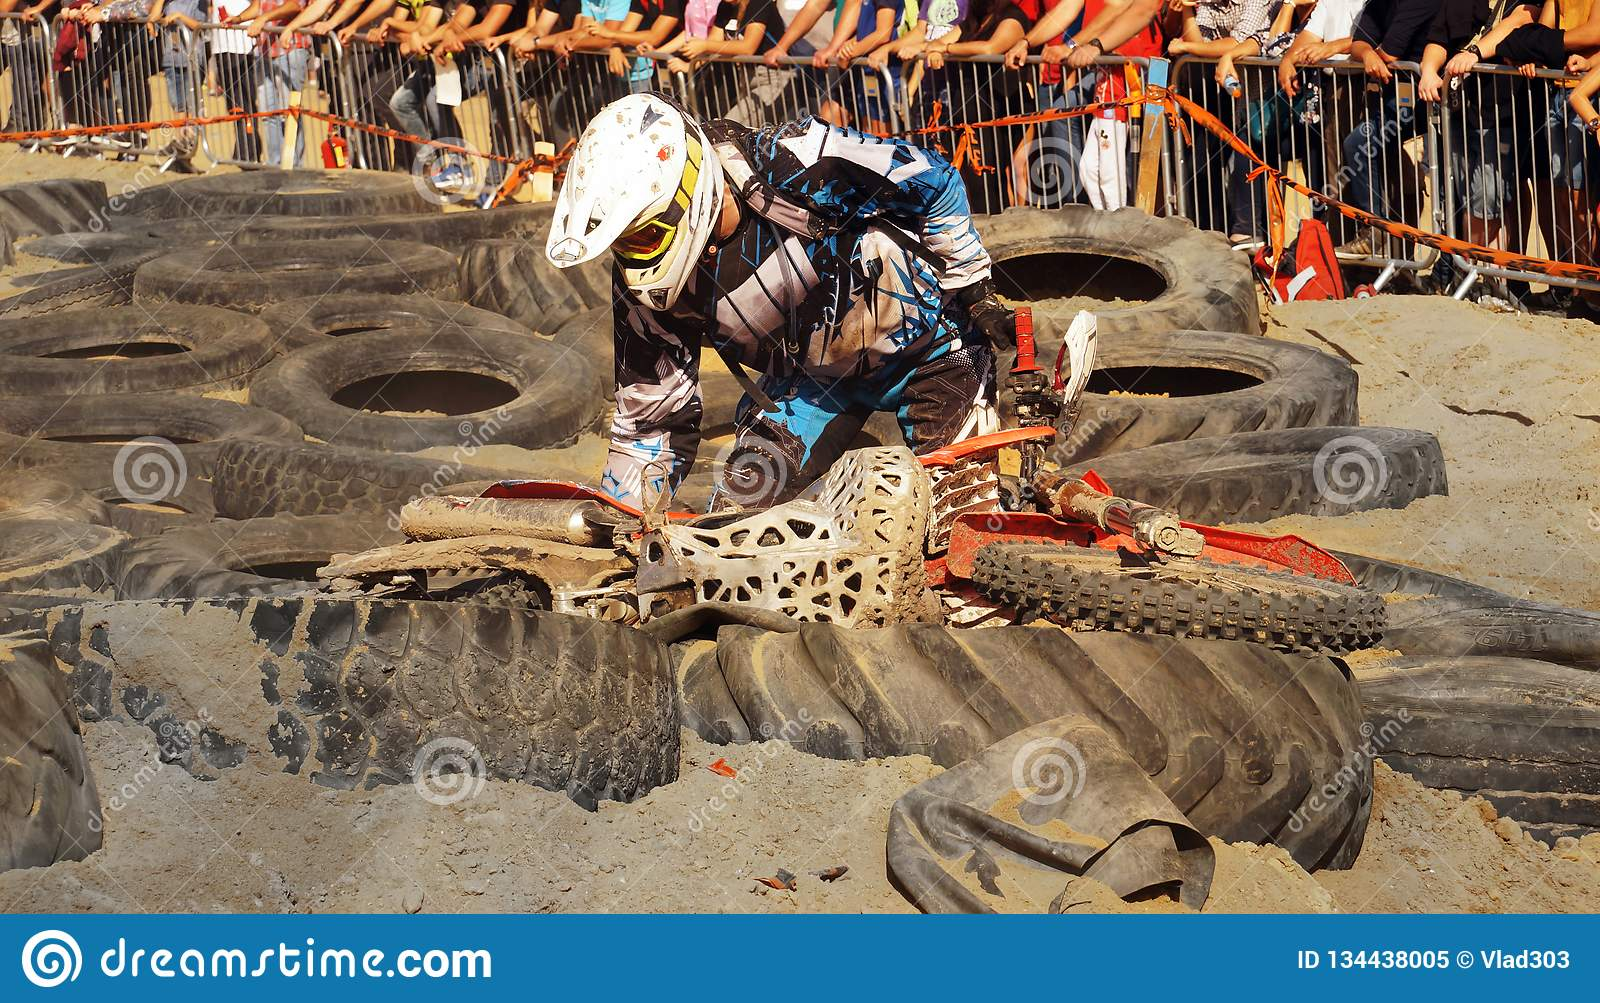helmet: (570, 102, 710, 299)
